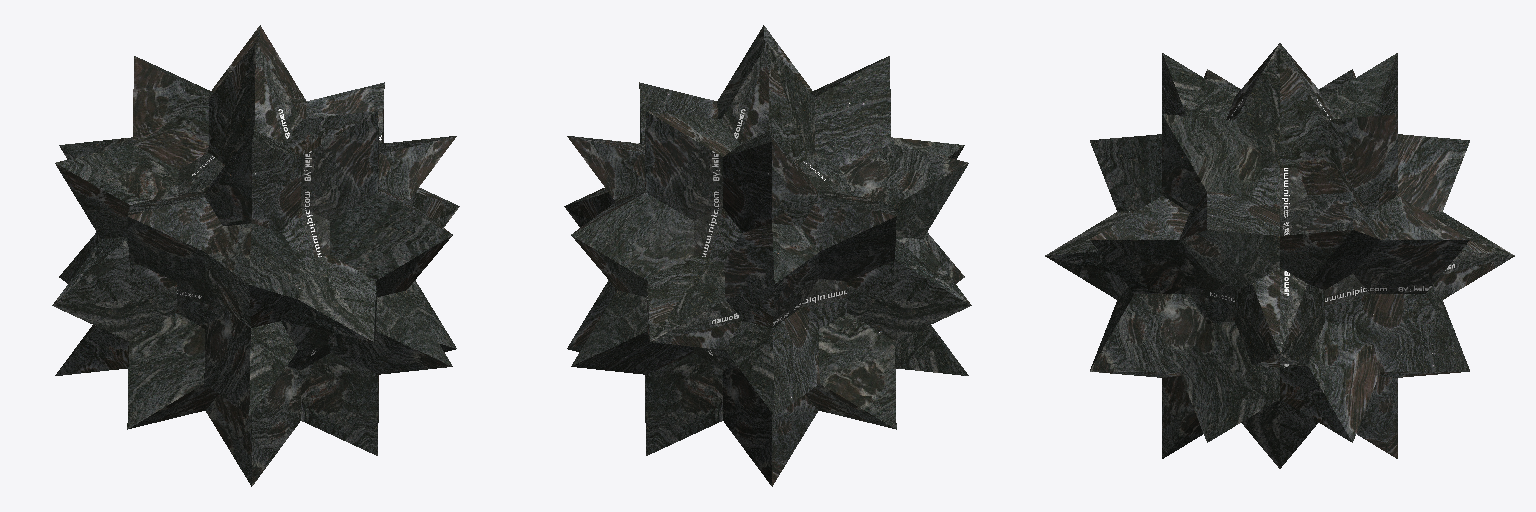
3 renders of one model, left to right at view 1: azimuth 30°, elevation 25°; view 2: azimuth 150°, elevation 25°; view 3: azimuth 270°, elevation 25°, orthographic.
Parts seen in each view (by area): view 1: Hedra001; view 2: Hedra001; view 3: Hedra001.
Boxes of the visible parts, x1=… form: Hedra001: x1=52, y1=25, x2=459, y2=486; Hedra001: x1=564, y1=25, x2=971, y2=486; Hedra001: x1=1045, y1=43, x2=1514, y2=468.
Size of the model in its own units: 57.42 by 57.42 by 57.42.
Materials: 1 (1 with a texture image).